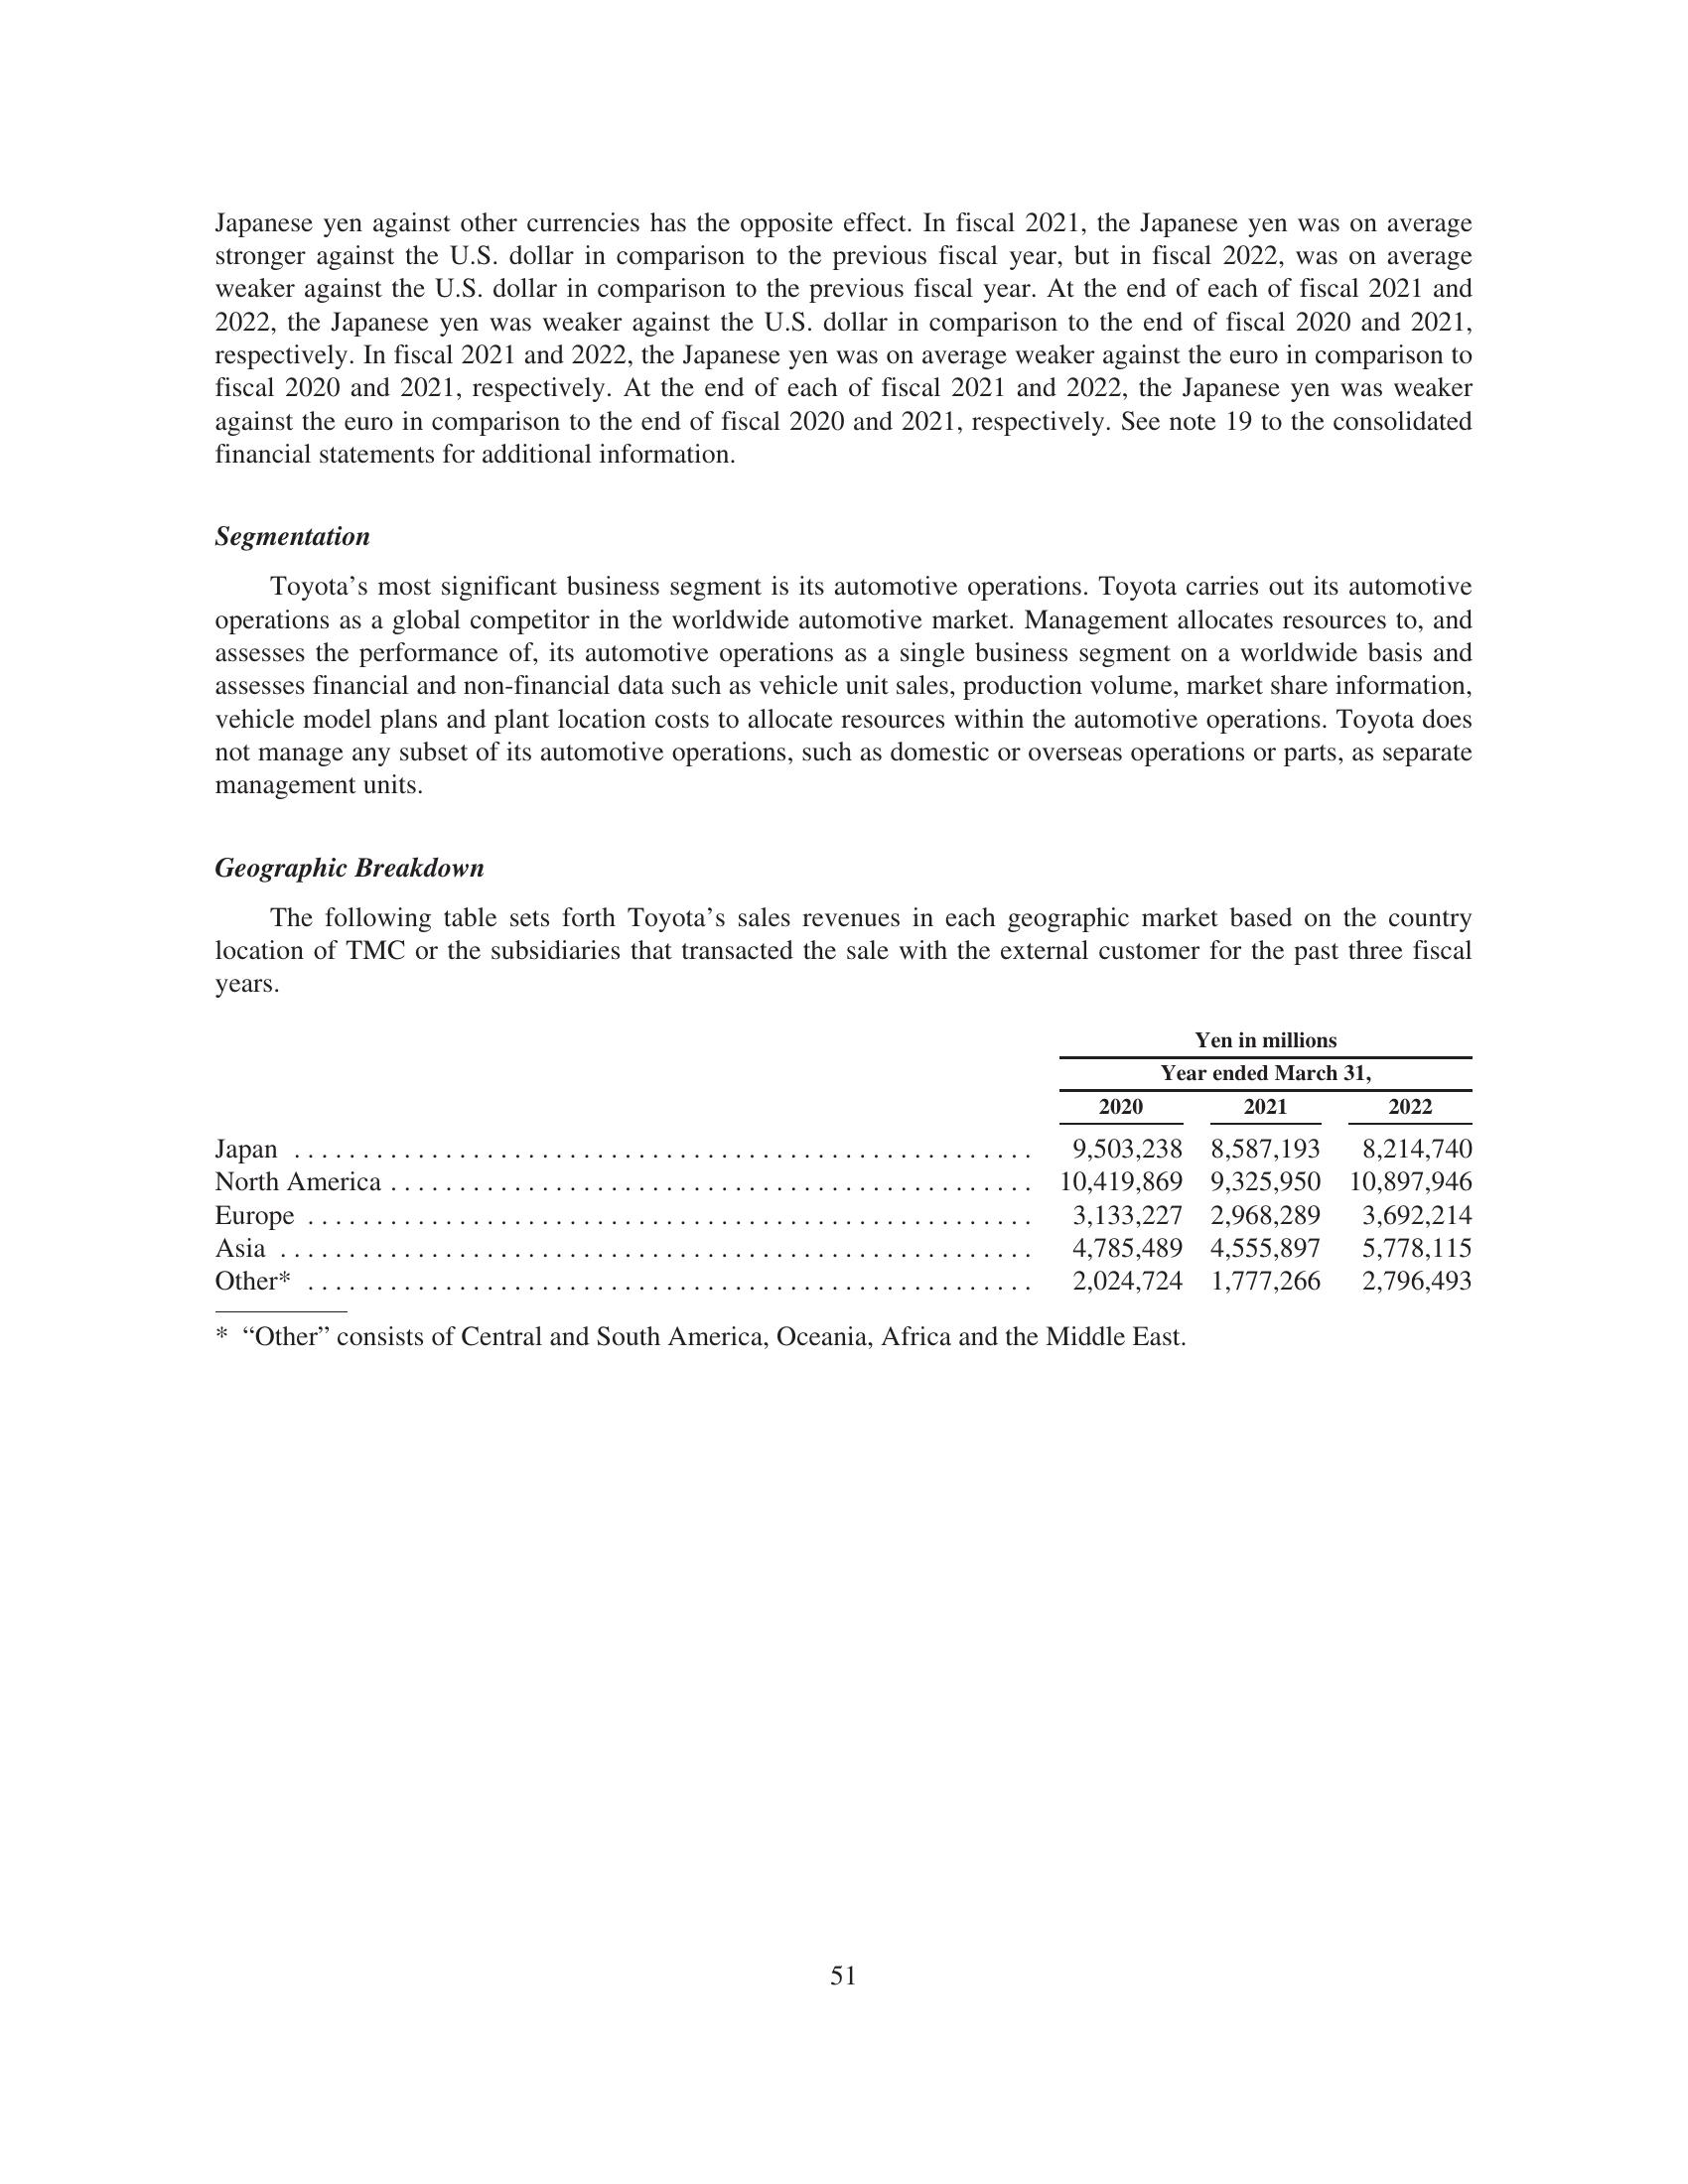Footer: (0, 1938, 1688, 2184)
Header: (0, 0, 1688, 183)
Table: (163, 1018, 1509, 1312)
